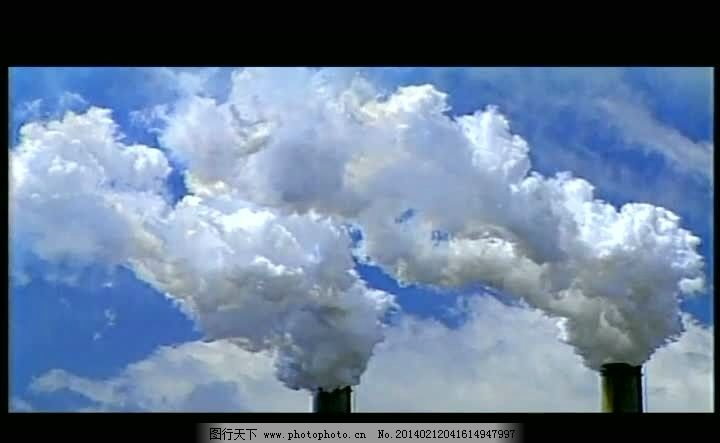dust: (423, 117, 711, 382), (155, 194, 404, 399)
